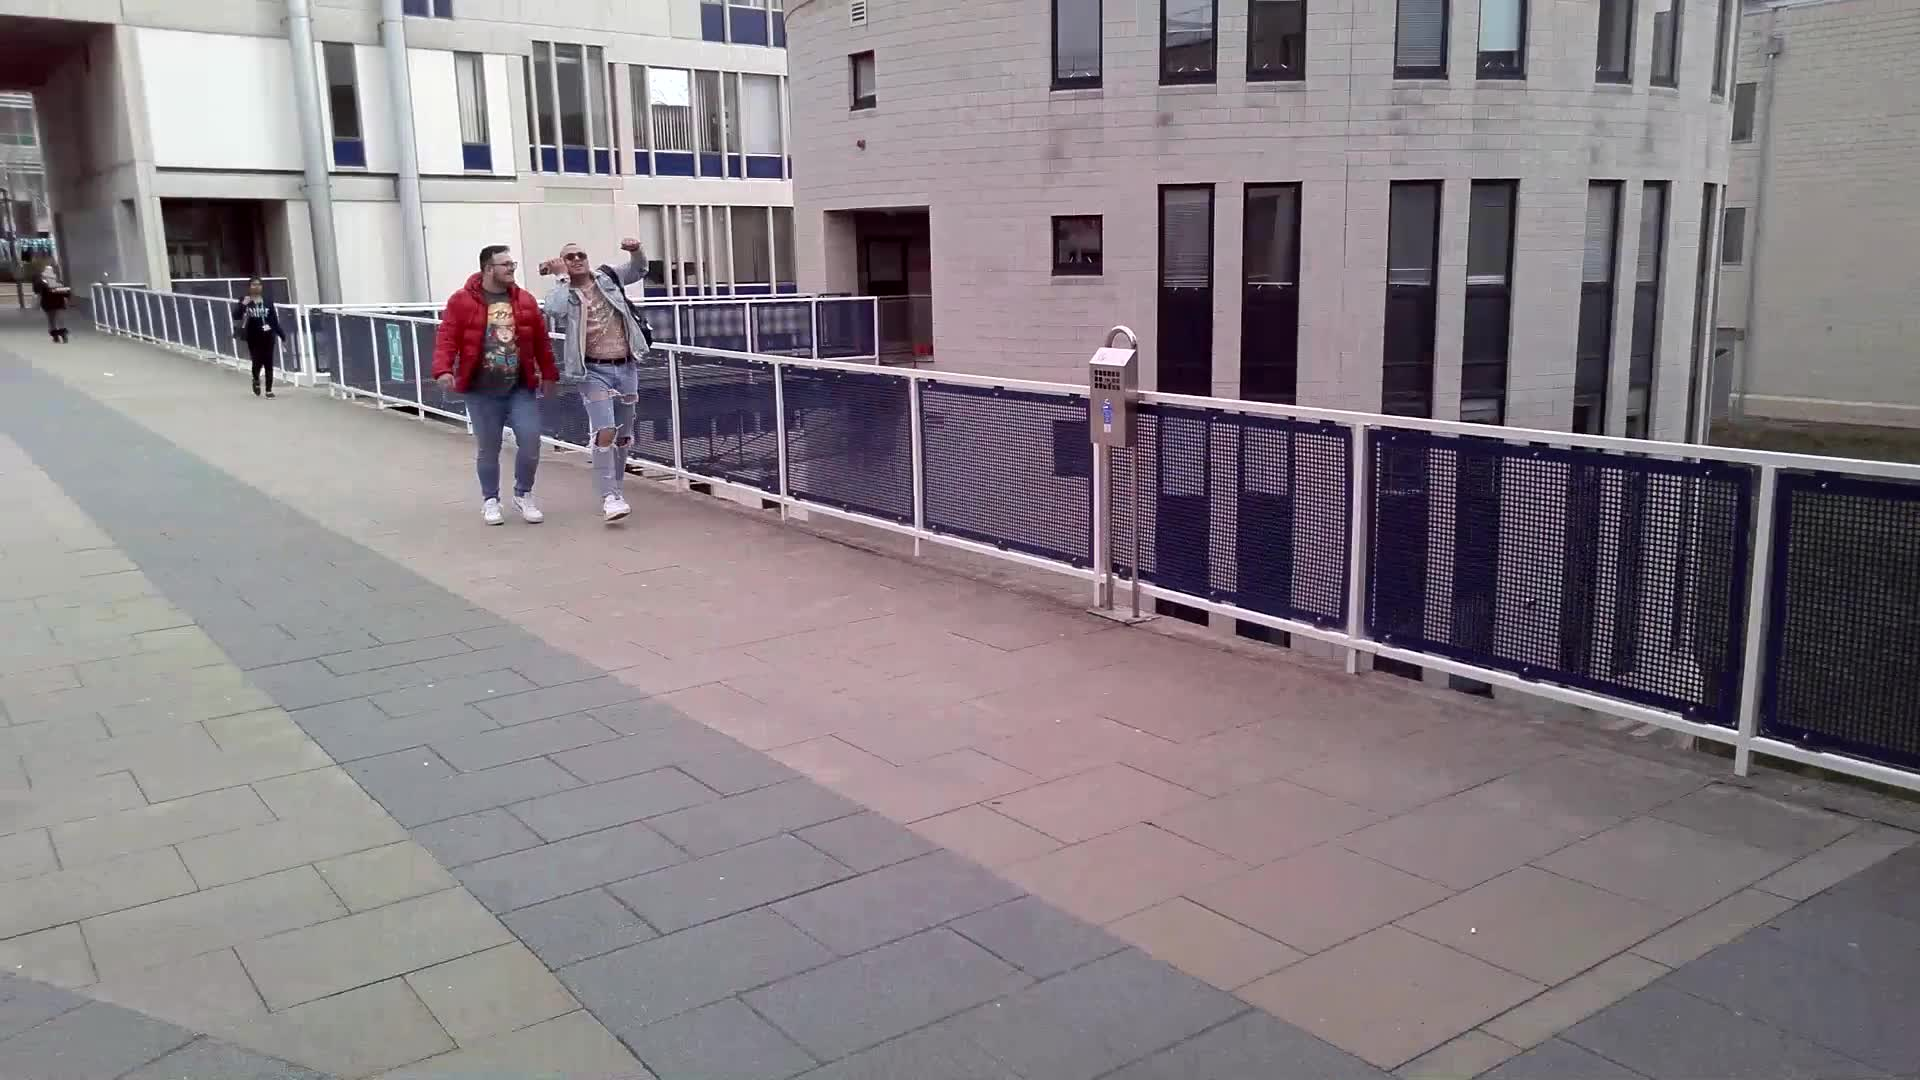Person: (544, 239, 669, 519), (445, 245, 548, 519), (242, 274, 289, 402), (25, 242, 82, 343)
